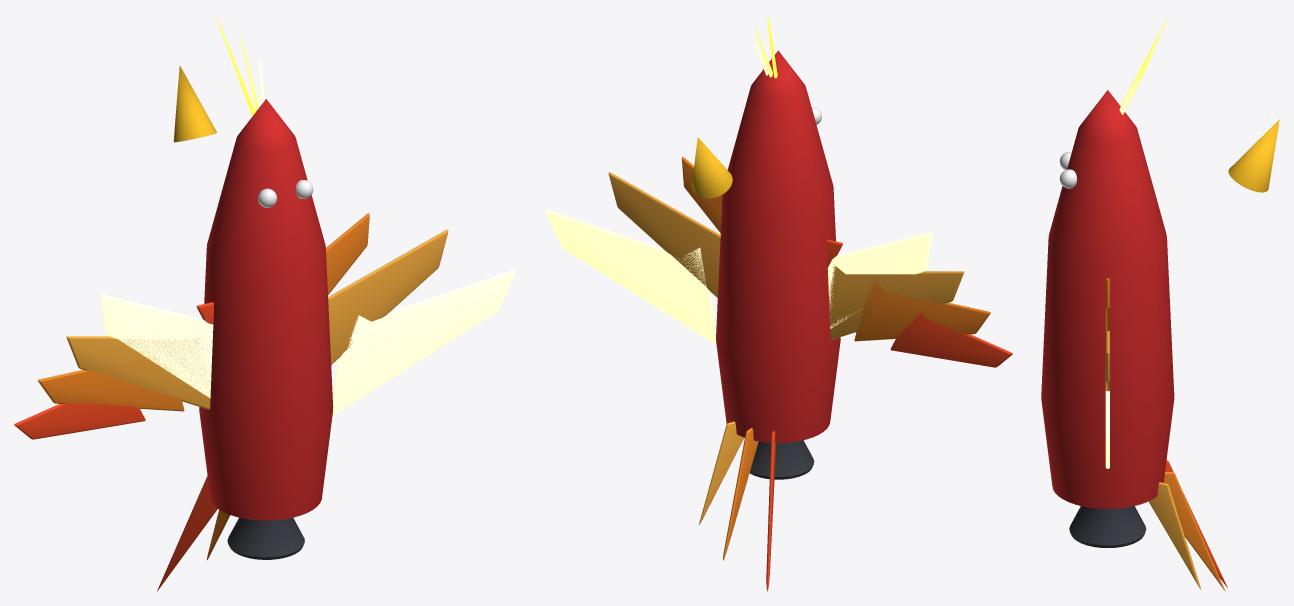
File: Rocket_32_Phoenix.fbx
The picture shows the model from 3 angles, left to right: view 1: azimuth 30°, elevation 25°; view 2: azimuth 150°, elevation 25°; view 3: azimuth 270°, elevation 25°; orthographic projection. The views are drawn at different scales.
Parts seen in each view (by area): view 1: R32_Body, R32_Feather, R32_Feather_5, R32_Feather_2, R32_Feather_6, R32_Feather_7, R32_Feather_8, R32_Nozzle, R32_Beak, R32_Feather_3, R32_TailFeather_3; view 2: R32_Body, R32_Feather, R32_Feather_2, R32_Feather_6, R32_Feather_7, R32_Feather_8, R32_Feather_5, R32_Nozzle, R32_Beak, R32_TailFeather, R32_TailFeather_2, R32_Feather_3 (+1 smaller); view 3: R32_Body, R32_Nozzle, R32_Beak, R32_TailFeather, R32_TailFeather_2, R32_Feather.
Boxes of the visible parts, x1=… form: R32_Body: x1=199, y1=99, x2=333, y2=520; R32_Feather: x1=332, y1=269, x2=516, y2=414; R32_Feather_5: x1=100, y1=294, x2=213, y2=398; R32_Feather_2: x1=328, y1=229, x2=448, y2=364; R32_Feather_6: x1=66, y1=324, x2=213, y2=409; R32_Feather_7: x1=38, y1=360, x2=184, y2=411; R32_Feather_8: x1=14, y1=389, x2=145, y2=439; R32_Nozzle: x1=227, y1=517, x2=304, y2=559; R32_Beak: x1=173, y1=65, x2=216, y2=142; R32_Feather_3: x1=326, y1=213, x2=369, y2=294; R32_TailFeather_3: x1=157, y1=476, x2=217, y2=591; R32_Body: x1=716, y1=50, x2=840, y2=442; R32_Feather: x1=545, y1=209, x2=716, y2=344; R32_Feather_2: x1=608, y1=172, x2=720, y2=297; R32_Feather_6: x1=829, y1=265, x2=964, y2=339; R32_Feather_7: x1=854, y1=279, x2=990, y2=341; R32_Feather_8: x1=890, y1=310, x2=1012, y2=367; R32_Feather_5: x1=827, y1=232, x2=932, y2=328; R32_Nozzle: x1=749, y1=440, x2=814, y2=479; R32_Beak: x1=692, y1=137, x2=732, y2=198; R32_TailFeather: x1=699, y1=421, x2=743, y2=524; R32_TailFeather_2: x1=723, y1=428, x2=758, y2=560; R32_Feather_3: x1=682, y1=157, x2=722, y2=232; R32_Body: x1=1041, y1=90, x2=1174, y2=508; R32_Nozzle: x1=1069, y1=506, x2=1146, y2=547; R32_Beak: x1=1228, y1=119, x2=1279, y2=192; R32_TailFeather: x1=1148, y1=482, x2=1201, y2=589; R32_TailFeather_2: x1=1163, y1=472, x2=1225, y2=591; R32_Feather: x1=1105, y1=391, x2=1109, y2=468.
Bounding box in the file's own units: 7.79 × 8.77 × 3.22.
